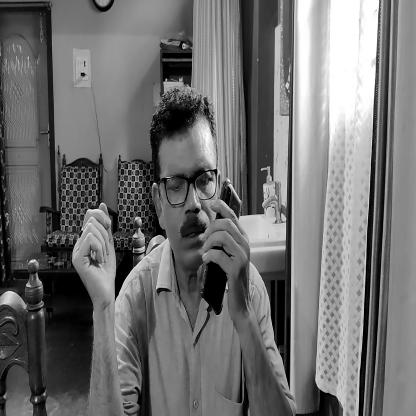Normal: (147, 82, 223, 278)
